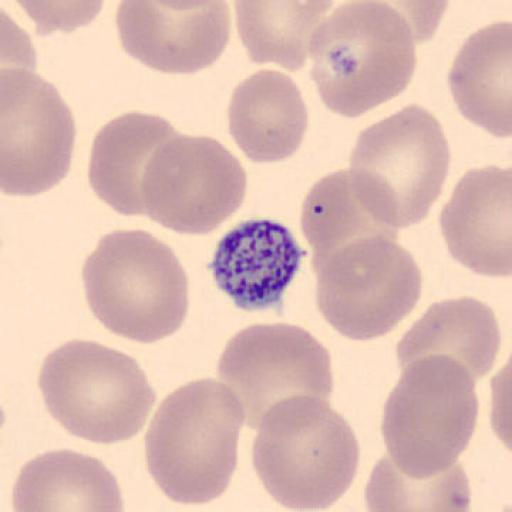Platelet: (205, 215, 307, 315)
RBC: (213, 321, 336, 435), (346, 101, 452, 230), (142, 376, 245, 508), (250, 392, 362, 512), (306, 0, 418, 120), (80, 227, 190, 346), (37, 338, 158, 446), (380, 352, 480, 480), (312, 234, 425, 344), (139, 131, 248, 237), (297, 166, 401, 277), (88, 109, 186, 218), (394, 294, 503, 390), (1, 65, 77, 199), (114, 0, 234, 76), (438, 164, 512, 279), (226, 67, 310, 164), (446, 19, 512, 141), (11, 445, 126, 512), (232, 0, 338, 72), (362, 453, 474, 512), (0, 4, 38, 110), (368, 0, 452, 44), (10, 0, 108, 35), (489, 358, 512, 459), (372, 0, 453, 24), (142, 0, 236, 13)
